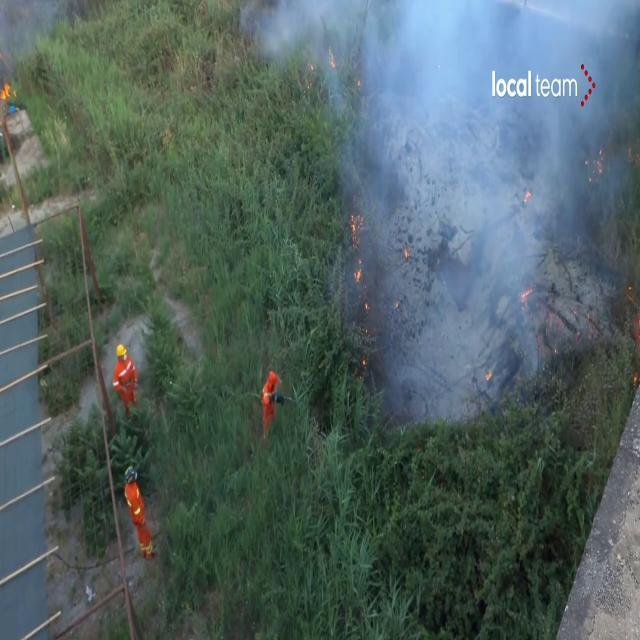Smoke: (326, 0, 640, 406)
